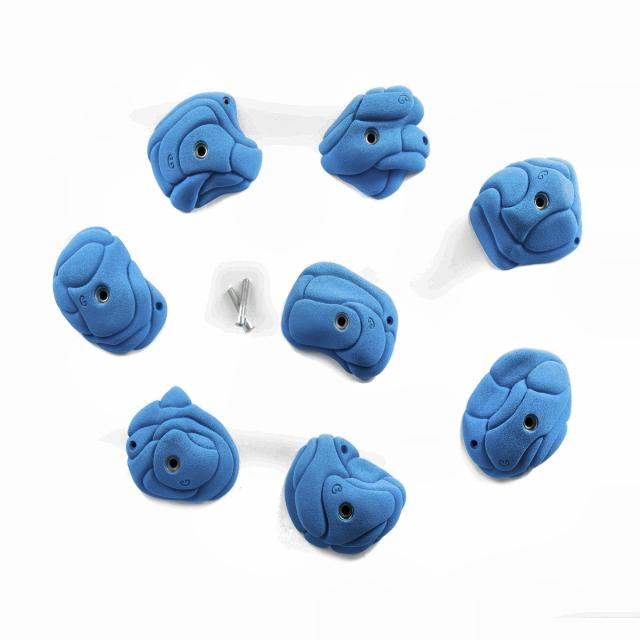Hold: (52, 225, 169, 356), (457, 344, 571, 478), (146, 86, 263, 216), (286, 435, 408, 557), (121, 382, 240, 505), (282, 260, 398, 381), (316, 80, 431, 202), (471, 156, 586, 272)
